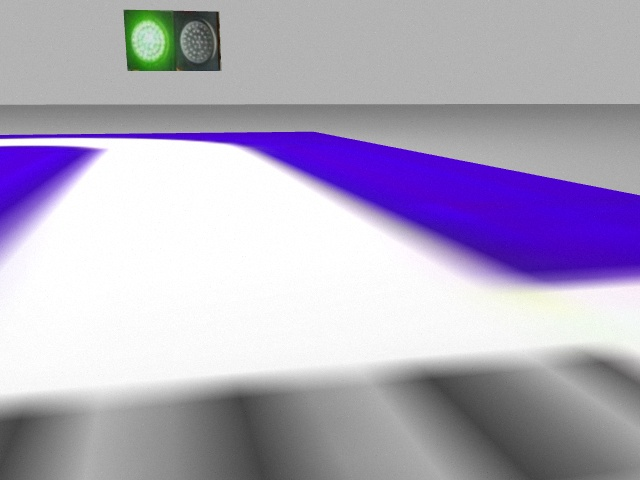green: (124, 9, 176, 72)
